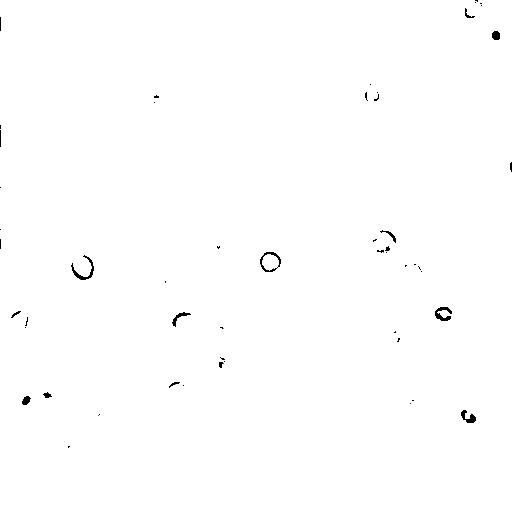micro-algae: (75, 279, 119, 323), (84, 395, 124, 437), (274, 450, 315, 489), (201, 289, 238, 327), (206, 234, 240, 270), (477, 16, 510, 48), (11, 382, 44, 414), (27, 424, 58, 455), (399, 259, 427, 292), (321, 353, 352, 382), (374, 327, 407, 354), (2, 224, 32, 252), (171, 310, 199, 338), (462, 83, 493, 108), (70, 252, 96, 281), (35, 390, 64, 416), (371, 229, 399, 255), (406, 393, 430, 422), (164, 379, 189, 406), (202, 353, 229, 377), (61, 442, 86, 466), (258, 250, 283, 274), (6, 309, 31, 332), (461, 0, 486, 20), (363, 80, 383, 105), (152, 268, 174, 287), (432, 305, 454, 323), (503, 35, 512, 74), (461, 407, 478, 425), (169, 0, 198, 10), (1, 125, 12, 144), (508, 155, 512, 174)
